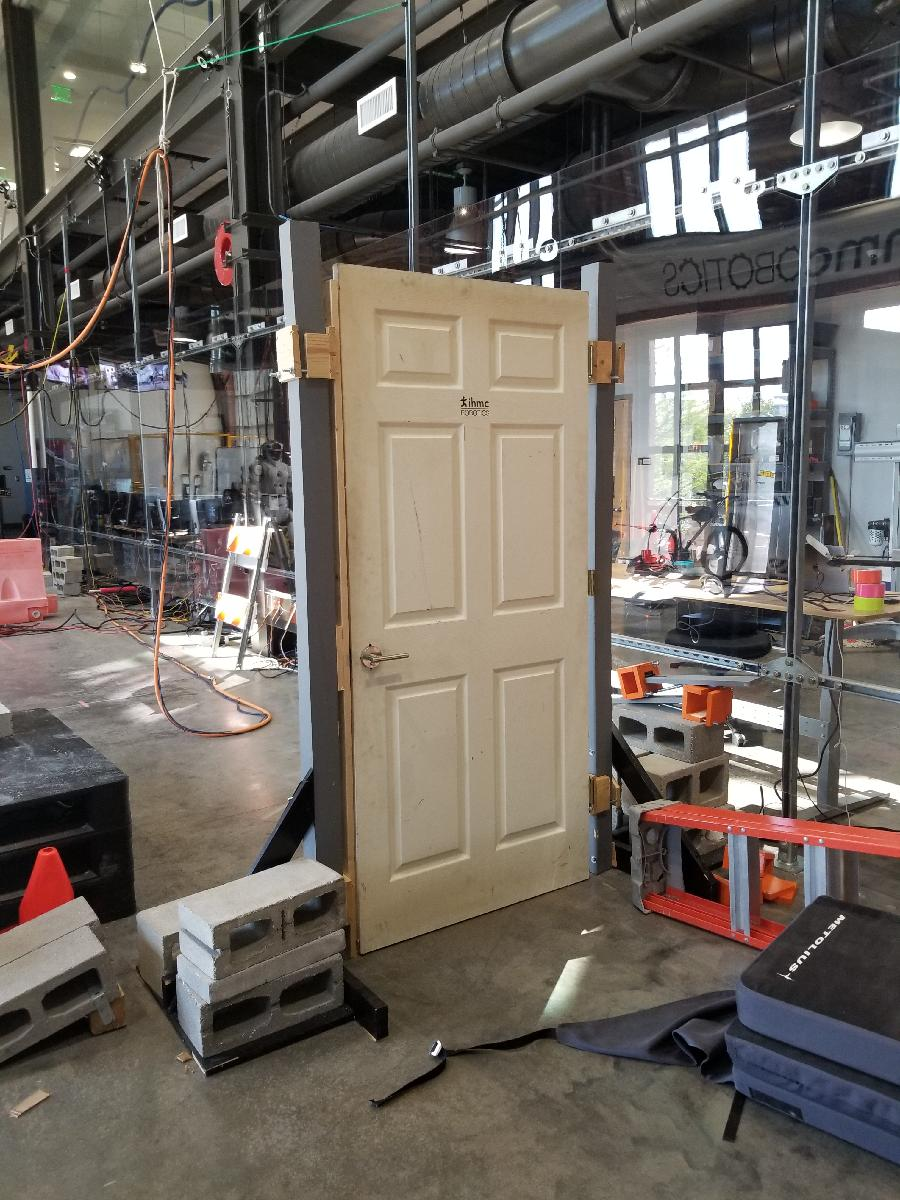door: (325, 256, 598, 965)
doorHandle: (352, 645, 415, 679)
